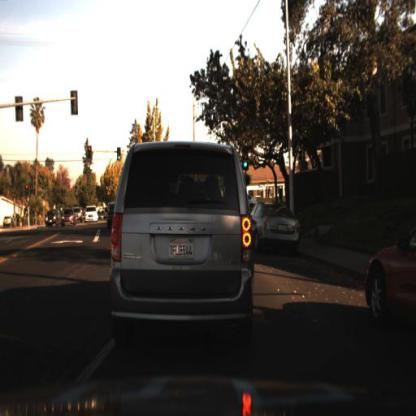car: (113, 143, 253, 339), (366, 215, 416, 344), (250, 202, 300, 245), (105, 194, 119, 232), (245, 189, 263, 215), (84, 204, 102, 226), (60, 210, 76, 228), (47, 210, 61, 228), (2, 212, 14, 231), (76, 206, 85, 224)
pedestrian: (274, 189, 288, 212)
trafficLight: (241, 140, 251, 176), (240, 148, 254, 173)
trafficLight-Green: (116, 144, 124, 163)
trafficLight-Red: (22, 181, 31, 198)
trafficLight-RedLeft: (87, 145, 95, 168), (23, 185, 31, 205)
